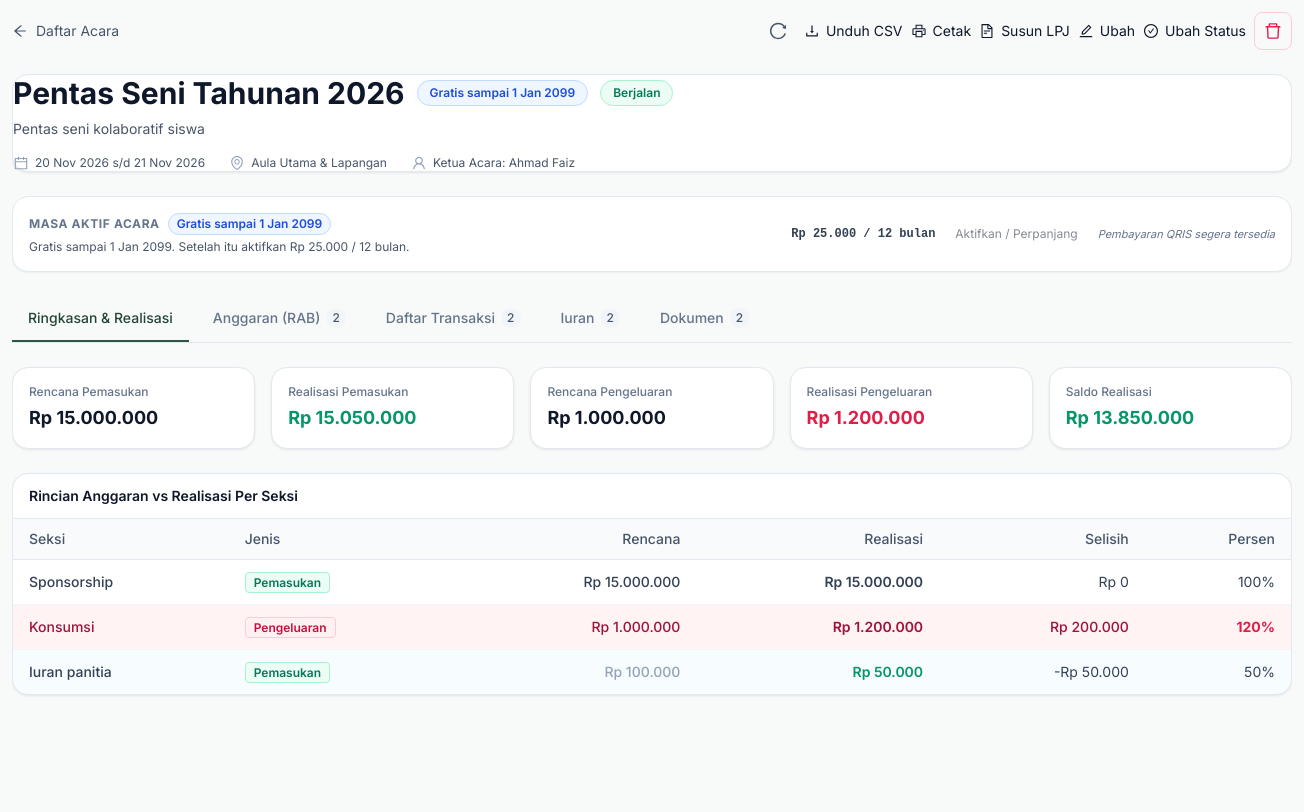
PANITIA-1.7: ProgramDetail Page › PANITIA-2.3: Tab Iuran di ProgramDetail › tab Iuran menampilkan status anggota dan ringkasan
Expected: the heading "Pentas Seni Tahunan 2026" is shown, [13, 75, 405, 111]
Klik tab Iuran
Click the button "Iuran 2" at (590, 319), box [544, 296, 636, 342]
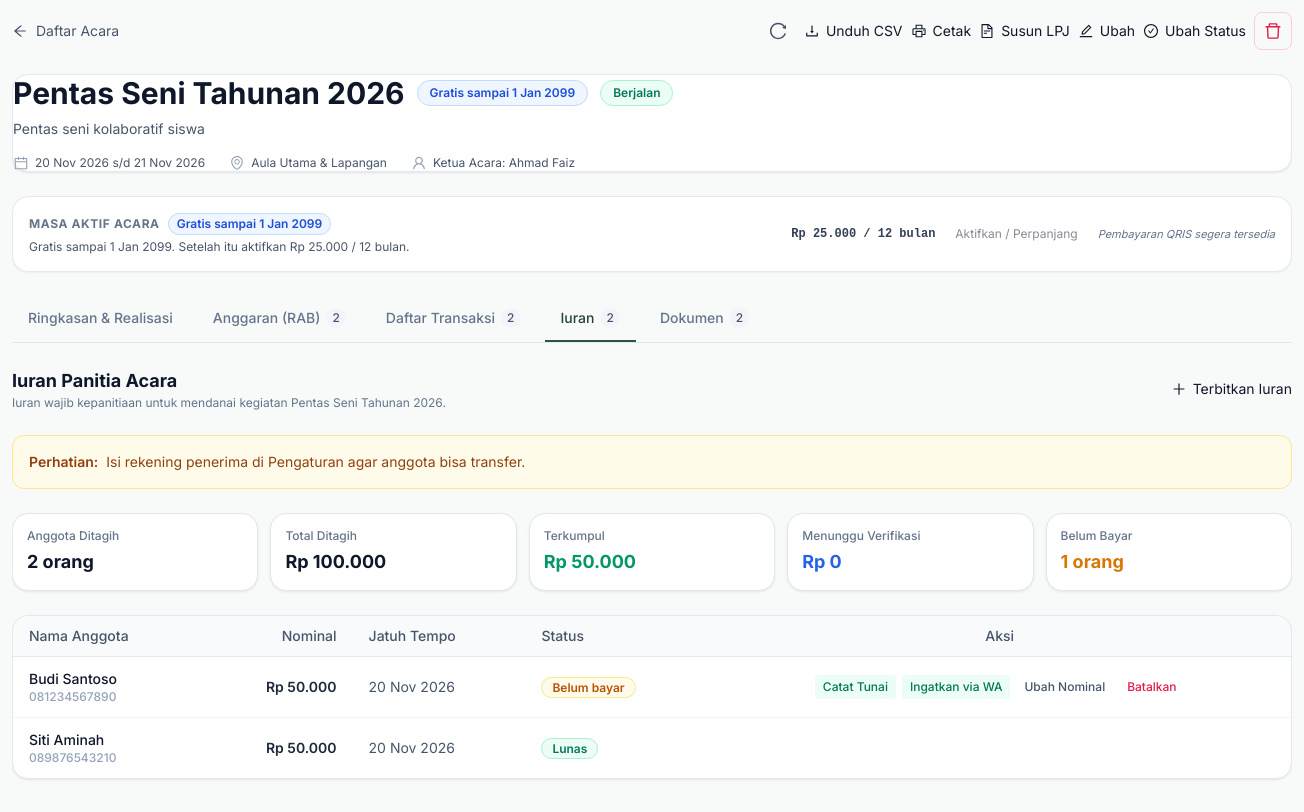
Expected: the text "Budi Santoso" is shown, [29, 670, 117, 687]
Expected: the text "Siti Aminah" is shown, [29, 731, 104, 748]
Expected: the text "Belum bayar" is shown, [541, 677, 636, 698]
